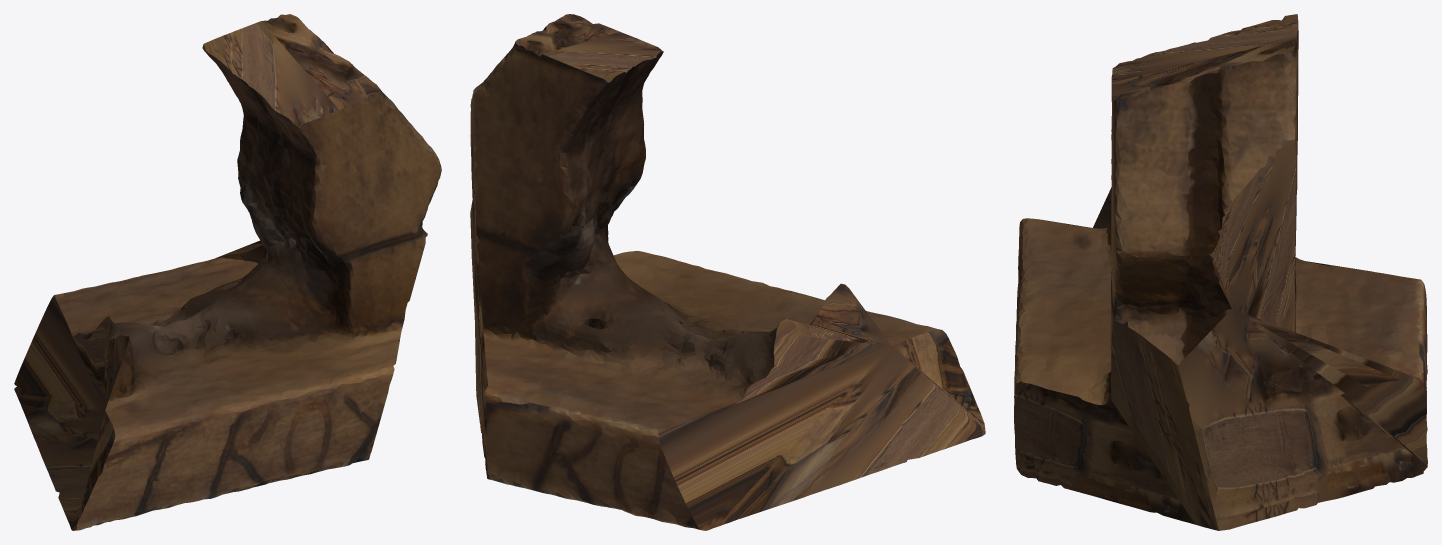
The picture shows the model from 3 angles, left to right: view 1: azimuth 30°, elevation 25°; view 2: azimuth 150°, elevation 25°; view 3: azimuth 270°, elevation 25°; orthographic projection. The views are drawn at different scales.
Parts seen in each view (by area): view 1: KLA-Or-10000_cell.002; view 2: KLA-Or-10000_cell.002; view 3: KLA-Or-10000_cell.002.
Boxes of the visible parts, x1,y1,x2,y2 form: KLA-Or-10000_cell.002: [14, 14, 441, 530]; KLA-Or-10000_cell.002: [470, 14, 985, 530]; KLA-Or-10000_cell.002: [1014, 14, 1427, 530].
Bounding box in the file's own units: 61.35 × 51.22 × 43.11.
